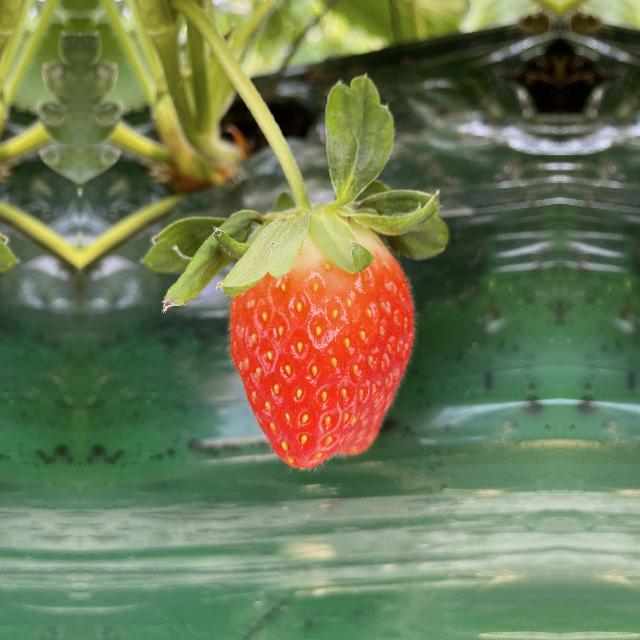Health_100: (218, 198, 424, 474)
